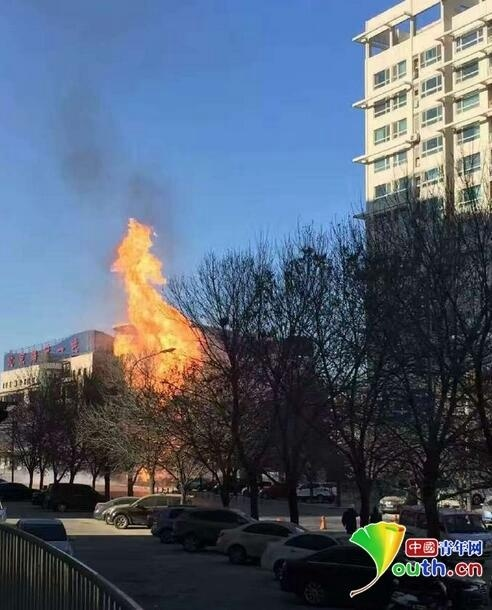fire: (108, 214, 211, 421)
